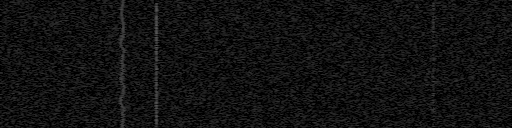wv_lsb: (431, 2, 436, 92), (154, 2, 159, 76), (154, 77, 159, 128), (431, 93, 436, 117), (431, 122, 436, 128), (431, 118, 436, 121)
wv_wbfm: (117, 0, 128, 128)
